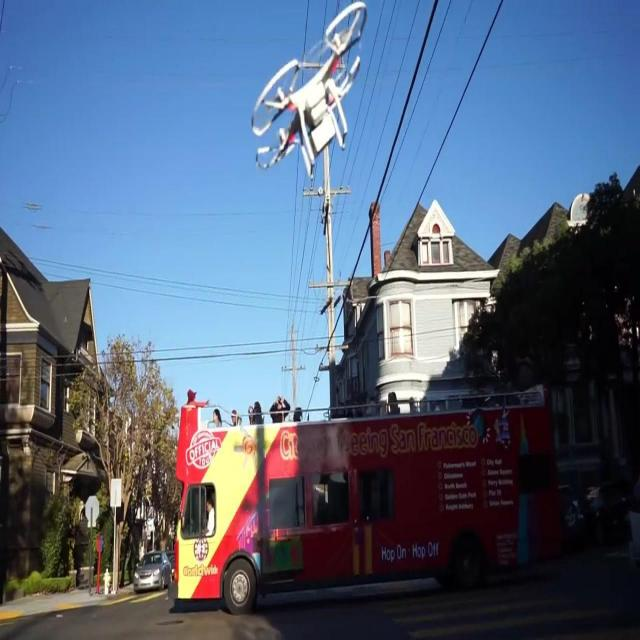UAV: (251, 0, 367, 181)
